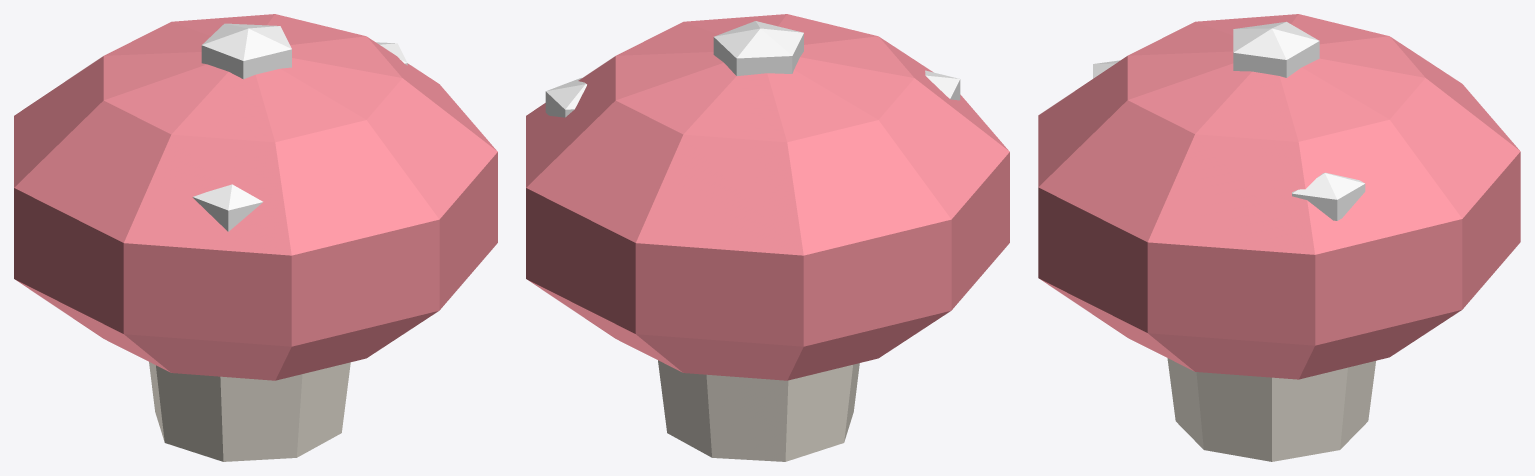
File: CF_Mushroom.fbx
The picture shows the model from 3 angles, left to right: view 1: azimuth 30°, elevation 25°; view 2: azimuth 150°, elevation 25°; view 3: azimuth 270°, elevation 25°; orthographic projection.
Parts seen in each view (by area): view 1: CF_Mushroom_Cap, CF_Mushroom_Stem, CF_Mushroom_Spot; view 2: CF_Mushroom_Cap, CF_Mushroom_Stem, CF_Mushroom_Spot; view 3: CF_Mushroom_Cap, CF_Mushroom_Stem, CF_Mushroom_Spot.
Boxes of the visible parts, <box> form: CF_Mushroom_Cap: <box>14,14,497,380</box>; CF_Mushroom_Stem: <box>149,362,350,461</box>; CF_Mushroom_Spot: <box>192,23,407,231</box>; CF_Mushroom_Cap: <box>526,14,1009,380</box>; CF_Mushroom_Stem: <box>658,360,859,461</box>; CF_Mushroom_Spot: <box>545,21,960,117</box>; CF_Mushroom_Cap: <box>1038,14,1520,379</box>; CF_Mushroom_Stem: <box>1167,358,1375,461</box>; CF_Mushroom_Spot: <box>1093,21,1365,220</box>.
Size of the model in its own units: 3.56 by 3.15 by 3.51.
